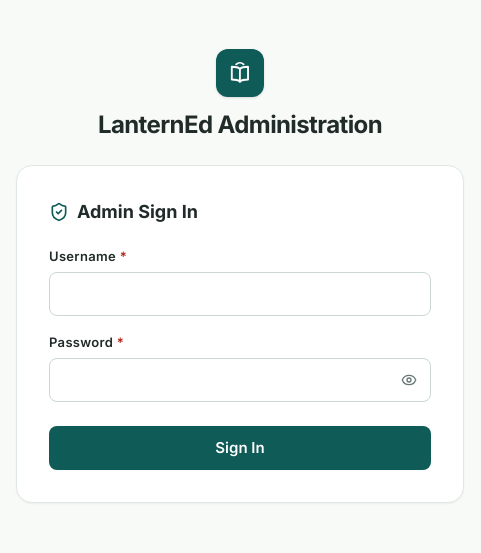
it: admin panel › shows the sign-in form when there is no session and shows the generic error on failure
Type "someone" into the field labelled "Username *" at (240, 294), box [49,272,431,316]
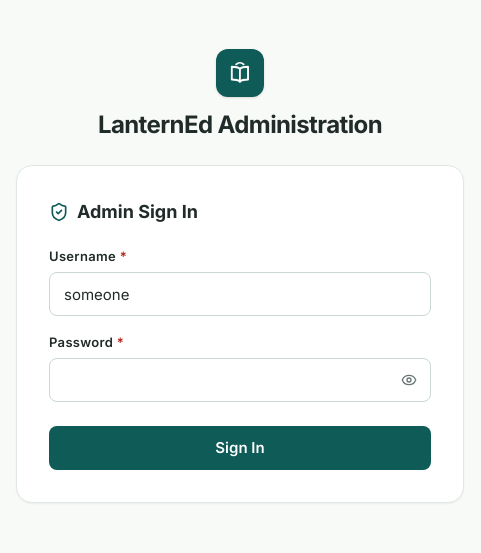
Type "wrong-password" into the password field labelled "Password *" at (240, 380), box [49,358,431,402]
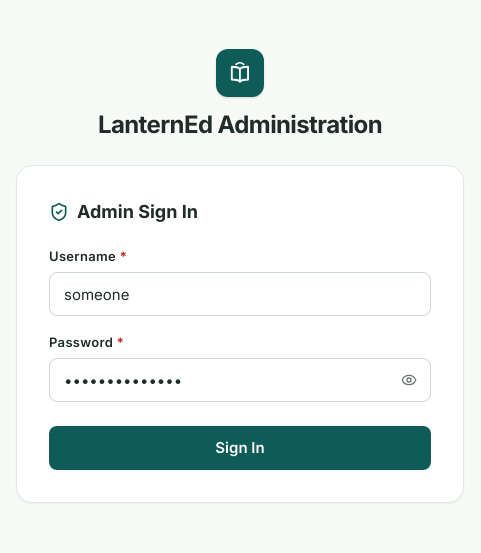
Click the button "Sign In" at (240, 448), box [49,426,431,470]
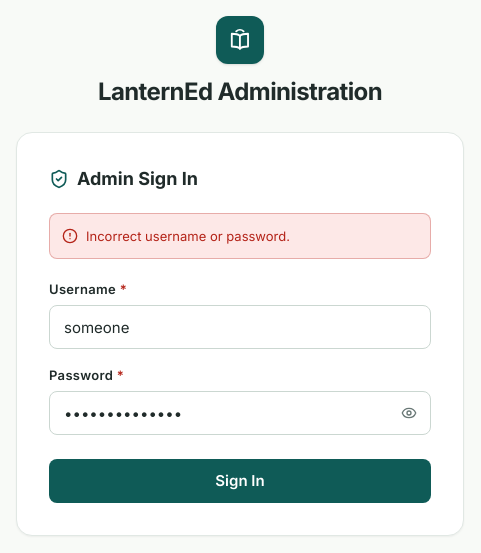
Expected: the message reads "Incorrect username or password.", [86,228,290,244]
